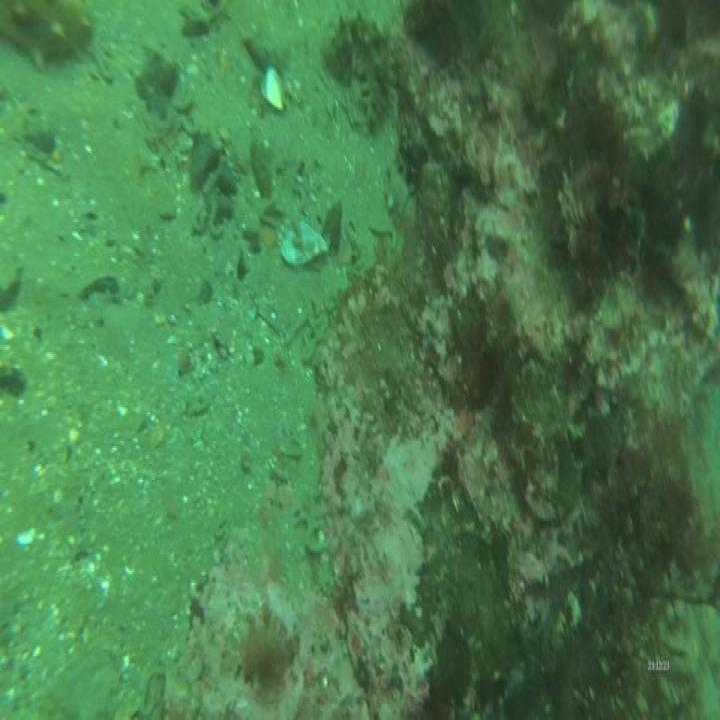holothurian: (318, 9, 395, 137), (0, 0, 98, 66)
